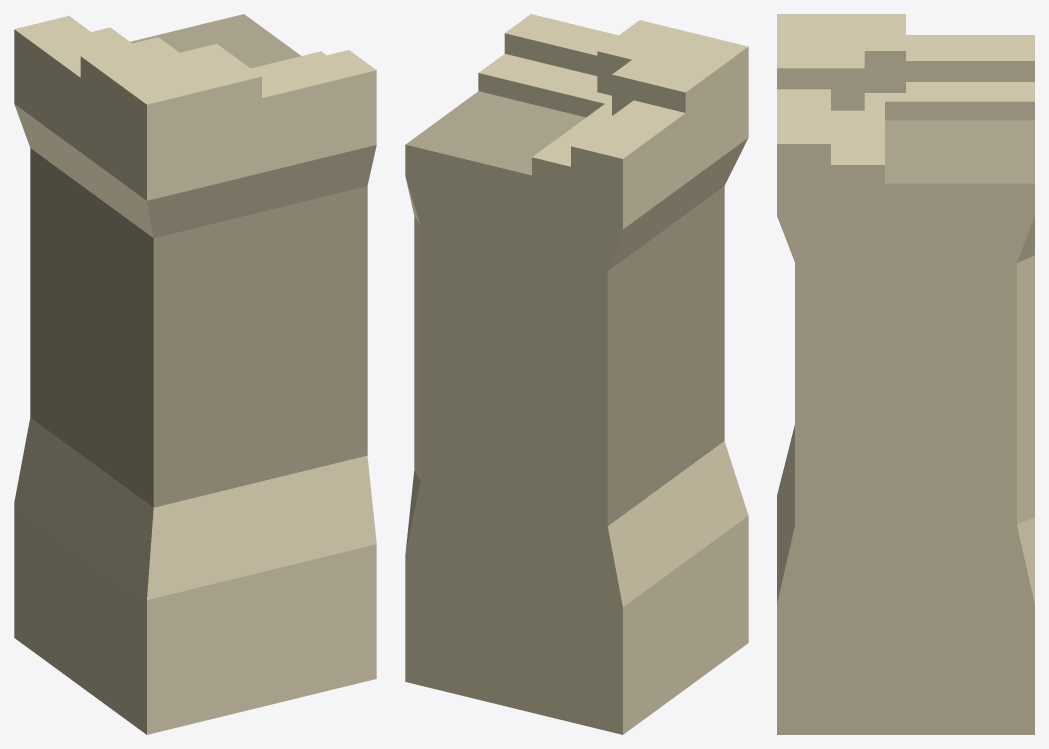
File: wallNarrowCorner.obj
The picture shows the model from 3 angles, left to right: view 1: azimuth 30°, elevation 25°; view 2: azimuth 150°, elevation 25°; view 3: azimuth 270°, elevation 25°; orthographic projection. The views are drawn at different scales.
Parts seen in each view (by area): view 1: wallNarrowCorner; view 2: wallNarrowCorner; view 3: wallNarrowCorner.
Boxes of the visible parts, x1,y1,x2,y2 form: wallNarrowCorner: (14, 14, 376, 734); wallNarrowCorner: (405, 14, 748, 734); wallNarrowCorner: (777, 14, 1034, 734).
Bounding box in the file's own units: 5 × 13.1 × 5.
